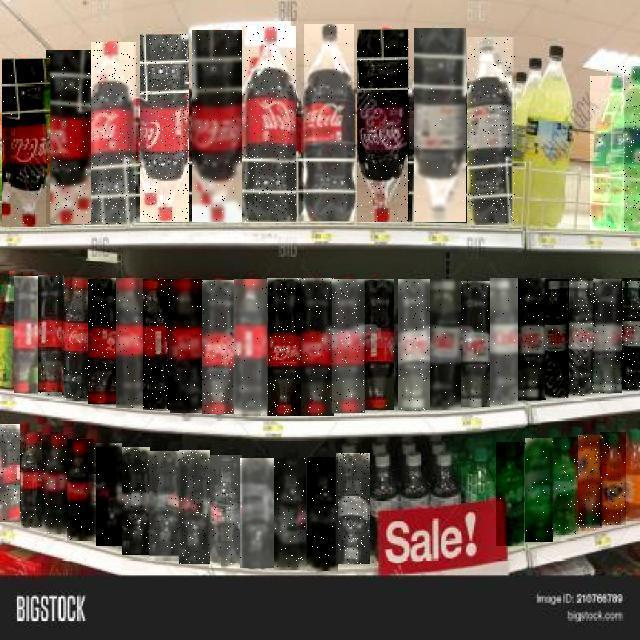Drinks: (242, 26, 296, 222), (358, 29, 412, 222), (414, 29, 466, 223), (304, 24, 354, 221), (192, 30, 242, 222), (140, 35, 189, 223), (468, 37, 516, 225), (92, 42, 138, 224), (2, 58, 50, 227), (46, 50, 91, 224), (606, 66, 640, 231), (590, 76, 624, 230), (300, 278, 334, 416), (267, 278, 301, 416), (234, 280, 268, 416), (202, 280, 235, 414), (332, 279, 365, 413), (170, 279, 202, 413), (398, 279, 430, 410), (430, 279, 461, 410), (364, 279, 394, 410), (336, 453, 370, 564), (241, 458, 275, 568), (209, 455, 242, 568), (144, 279, 172, 410), (461, 281, 490, 407), (116, 278, 144, 408), (274, 458, 306, 570), (307, 457, 338, 571), (179, 450, 210, 564), (89, 279, 117, 405), (491, 279, 519, 405), (519, 278, 547, 400), (149, 452, 180, 560), (63, 278, 89, 400), (38, 276, 64, 396), (546, 279, 572, 398), (572, 278, 598, 396), (122, 447, 150, 555), (596, 279, 622, 393), (496, 442, 524, 546), (525, 438, 553, 542), (68, 439, 96, 541), (14, 276, 38, 393), (551, 437, 579, 535), (96, 443, 122, 546), (43, 436, 69, 534), (18, 432, 44, 528), (600, 432, 626, 525), (578, 436, 602, 530), (621, 278, 640, 390), (0, 424, 20, 522)
